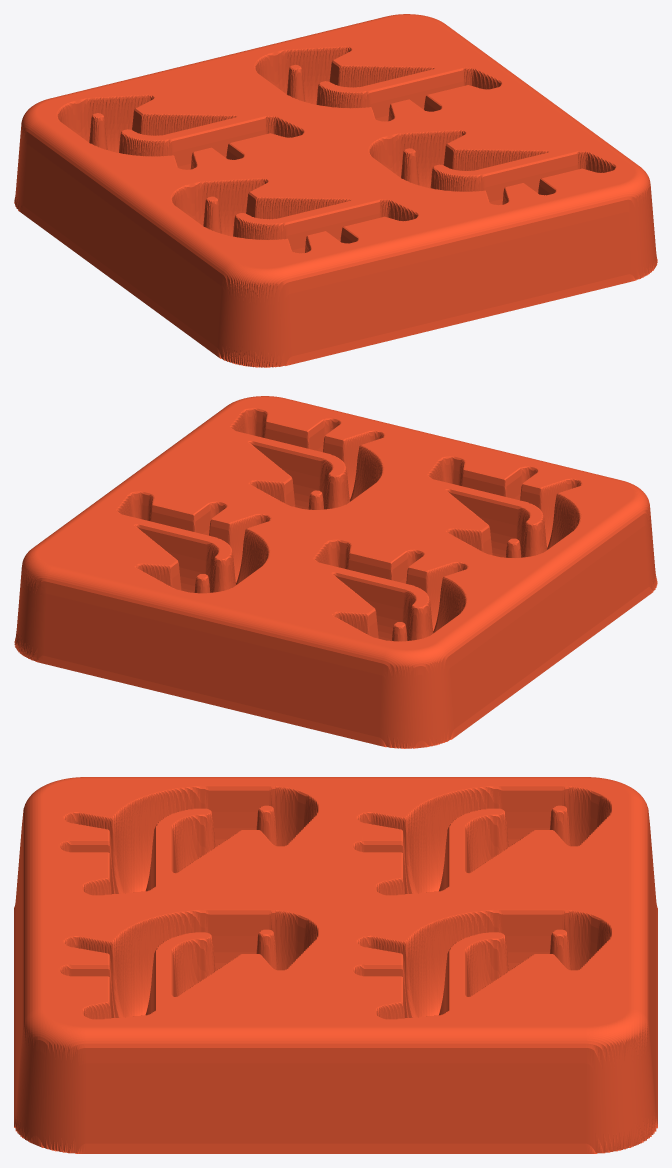
File: mold.glb
The picture shows the model from 3 angles, top to bottom: view 1: azimuth 30°, elevation 25°; view 2: azimuth 150°, elevation 25°; view 3: azimuth 270°, elevation 25°; orthographic projection. The views are drawn at different scales.
Parts seen in each view (by area): view 1: geometry_0; view 2: geometry_0; view 3: geometry_0.
Part boxes in pixels (left/top/right/bottom): geometry_0: left=14, top=14, right=657, bottom=367; geometry_0: left=14, top=396, right=657, bottom=748; geometry_0: left=14, top=777, right=657, bottom=1153.
Size of the model in its own units: 0.0808 by 0.0159 by 0.0808.
